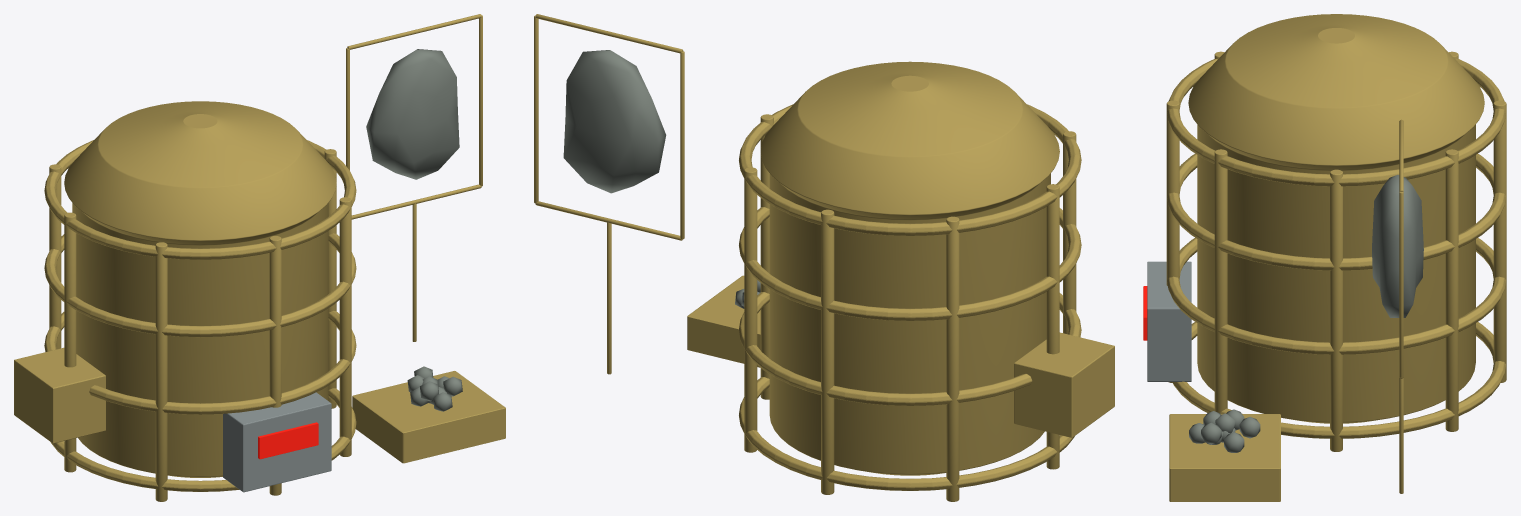
3 views of the same model, side by side, from view 1: azimuth 30°, elevation 25°; view 2: azimuth 150°, elevation 25°; view 3: azimuth 270°, elevation 25° (orthographic). The views are drawn at different scales.
Parts seen in each view (by area): view 1: TI084 / rounded gold ore canister, TI084 / separate mineral specimen, TI084 / small sample tray, TI084 / front terminal, TI084 / side cargo block, TI084 / canister cage hoop.003, TI084 / canister cage hoop.002, TI084 / canister cage hoop.001, TI084 / canister protective upright.005, TI084 / canister protective upright.007, TI084 / canister cage hoop, TI084 / canister protective upright.006 (+8 smaller); view 2: TI084 / rounded gold ore canister, TI084 / separate mineral specimen, TI084 / side cargo block, TI084 / canister cage hoop.003, TI084 / canister cage hoop.002, TI084 / canister cage hoop, TI084 / canister cage hoop.001, TI084 / canister protective upright.003, TI084 / canister protective upright.002, TI084 / small sample tray, TI084 / canister protective upright.001, TI084 / canister protective upright.004 (+7 smaller); view 3: TI084 / rounded gold ore canister, TI084 / small sample tray, TI084 / canister cage hoop.003, TI084 / separate mineral specimen, TI084 / canister cage hoop.001, TI084 / canister cage hoop.002, TI084 / front terminal, TI084 / canister cage hoop, TI084 / canister protective upright.001, TI084 / canister protective upright, TI084 / canister protective upright.007, TI084 / canister protective upright.002 (+3 smaller).
Boxes of the visible parts, left/top/right/bottom form: TI084 / rounded gold ore canister: left=64, top=101, right=336, bottom=477; TI084 / separate mineral specimen: left=366, top=49, right=459, bottom=179; TI084 / small sample tray: left=352, top=371, right=505, bottom=463; TI084 / front terminal: left=223, top=392, right=331, bottom=492; TI084 / side cargo block: left=14, top=347, right=105, bottom=443; TI084 / canister cage hoop.003: left=44, top=140, right=356, bottom=259; TI084 / canister cage hoop.002: left=44, top=233, right=356, bottom=337; TI084 / canister cage hoop.001: left=44, top=311, right=356, bottom=414; TI084 / canister protective upright.005: left=155, top=242, right=167, bottom=501; TI084 / canister protective upright.007: left=339, top=197, right=351, bottom=456; TI084 / canister cage hoop: left=50, top=388, right=356, bottom=491; TI084 / canister protective upright.006: left=269, top=236, right=281, bottom=495; TI084 / rounded gold ore canister: left=760, top=61, right=1059, bottom=475; TI084 / separate mineral specimen: left=563, top=50, right=666, bottom=193; TI084 / side cargo block: left=1014, top=332, right=1114, bottom=437; TI084 / canister cage hoop.003: left=739, top=104, right=1081, bottom=235; TI084 / canister cage hoop.002: left=739, top=207, right=1081, bottom=320; TI084 / canister cage hoop: left=739, top=377, right=1074, bottom=490; TI084 / canister cage hoop.001: left=739, top=292, right=1081, bottom=405; TI084 / canister protective upright.003: left=946, top=216, right=959, bottom=501; TI084 / canister protective upright.002: left=821, top=209, right=834, bottom=494; TI084 / small sample tray: left=687, top=275, right=760, bottom=367; TI084 / canister protective upright.001: left=744, top=167, right=757, bottom=452; TI084 / canister protective upright.004: left=1046, top=184, right=1059, bottom=469; TI084 / rounded gold ore canister: left=1188, top=14, right=1484, bottom=423; TI084 / small sample tray: left=1169, top=414, right=1280, bottom=501; TI084 / canister cage hoop.003: left=1167, top=59, right=1505, bottom=186; TI084 / separate mineral specimen: left=1372, top=174, right=1423, bottom=317; TI084 / canister cage hoop.001: left=1167, top=237, right=1505, bottom=354; TI084 / canister cage hoop.002: left=1167, top=153, right=1505, bottom=270; TI084 / front terminal: left=1147, top=261, right=1191, bottom=381; TI084 / canister cage hoop: left=1172, top=322, right=1505, bottom=438; TI084 / canister protective upright.001: left=1445, top=149, right=1458, bottom=431; TI084 / canister protective upright: left=1330, top=169, right=1342, bottom=451; TI084 / canister protective upright.007: left=1214, top=149, right=1227, bottom=412; TI084 / canister protective upright.002: left=1493, top=100, right=1506, bottom=382.
Size of the model in its own units: 3.24 by 2.11 by 1.95.
